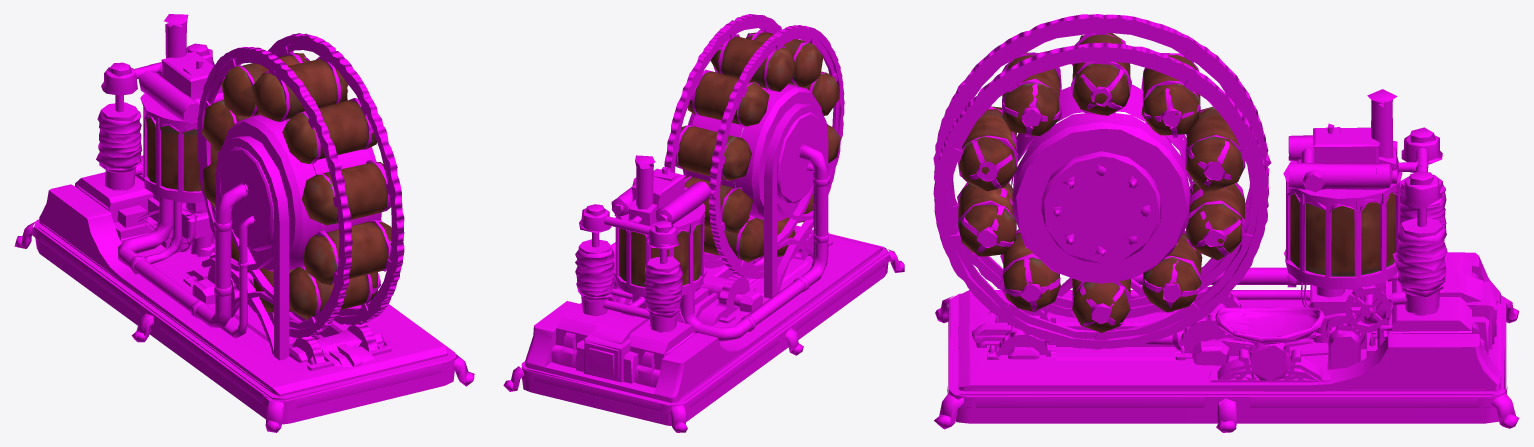
File: StructureBP_EmbryoIncubator_C.glb
3 renders of one model, left to right at view 1: azimuth 30°, elevation 25°; view 2: azimuth 150°, elevation 25°; view 3: azimuth 270°, elevation 25°, orthographic. The views are drawn at different scales.
Parts seen in each view (by area): view 1: SM_EmbryoIncubator; view 2: SM_EmbryoIncubator; view 3: SM_EmbryoIncubator.
Boxes of the visible parts, box(x1,y1,x2,y2) form: SM_EmbryoIncubator: box(14, 14, 474, 432); SM_EmbryoIncubator: box(503, 14, 904, 432); SM_EmbryoIncubator: box(933, 14, 1519, 432).
Bounding box in the file's own units: 2.03 × 2.67 × 4.1.
Materials: 2 (1 with a texture image).
